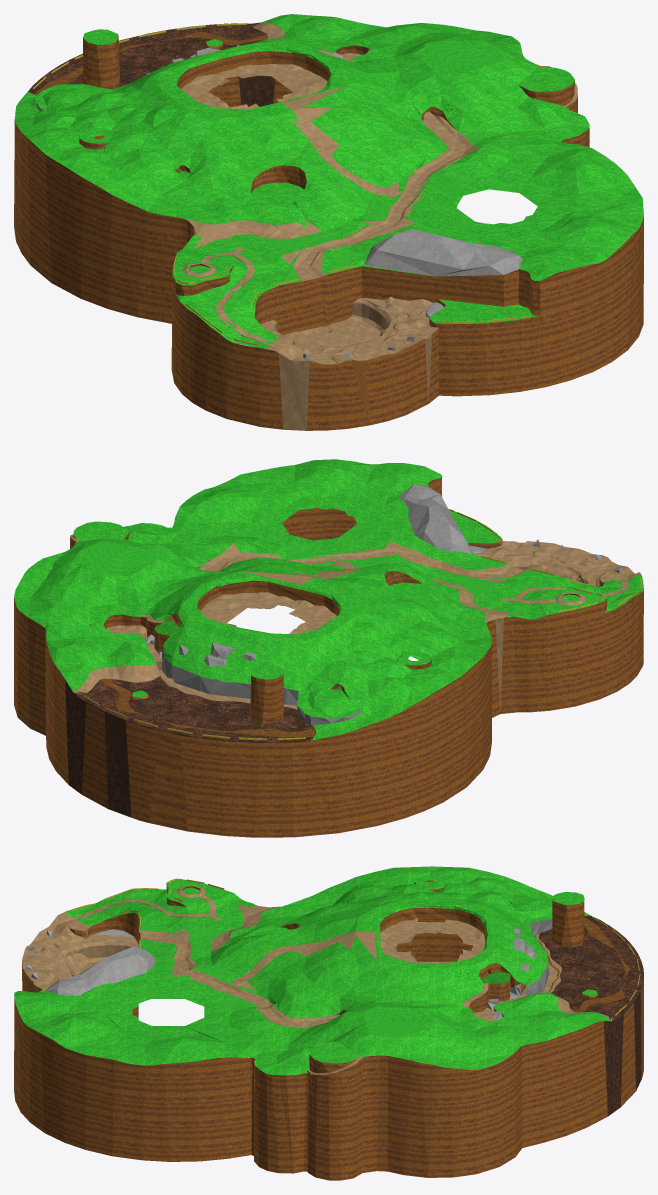
File: PeachWorldLazyCollision.obj
The picture shows the model from 3 angles, top to bottom: view 1: azimuth 30°, elevation 25°; view 2: azimuth 150°, elevation 25°; view 3: azimuth 270°, elevation 25°; orthographic projection. The views are drawn at different scales.
Visible parts, largest first — view 1: polySurface1605_10__FenceWood01; view 2: polySurface1605_10__FenceWood01; view 3: polySurface1605_10__FenceWood01.
Part boxes in pixels (x1,y1,x2,y2): polySurface1605_10__FenceWood01: (14,14,643,430); polySurface1605_10__FenceWood01: (14,459,643,837); polySurface1605_10__FenceWood01: (14,866,643,1180).
Bounding box in the file's own units: 30588 × 9112 × 38406.
